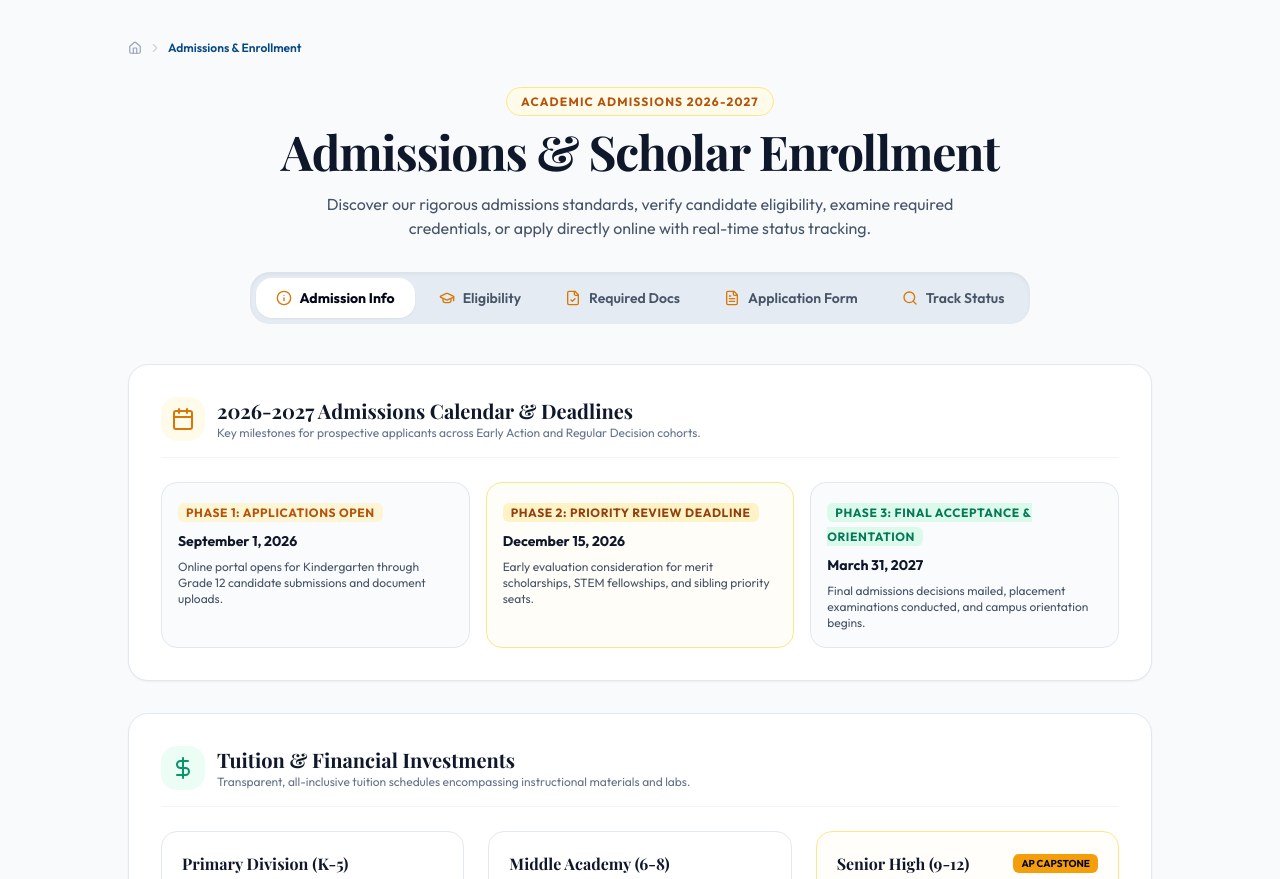
Test: Phase 14 — Complete Admissions Workflow Test Suite › 1. Public Admissions Portal — Informational & Policy Views › switches to Eligibility tab and displays grade age criteria matrix
Click the button "Eligibility". click: [480, 298]
box: [419,278,541,318]
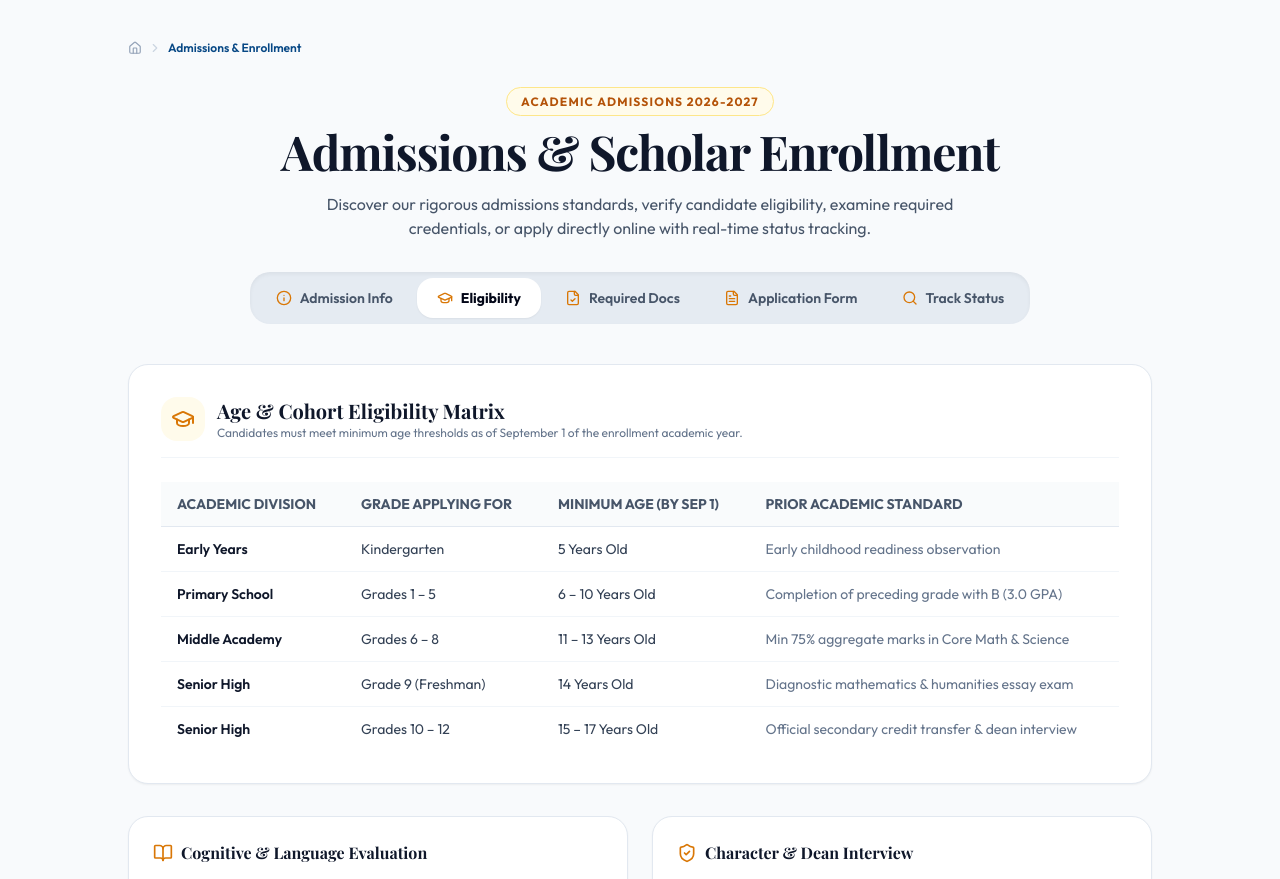
Expected: the heading "Age & Cohort Eligibility Matrix" is shown, [217,397,505,424]
Expected: the text "5 Years Old" is shown, [542,526,750,571]
Expected: the text "Grade 9 (Freshman)" is shown, [345,661,542,706]
